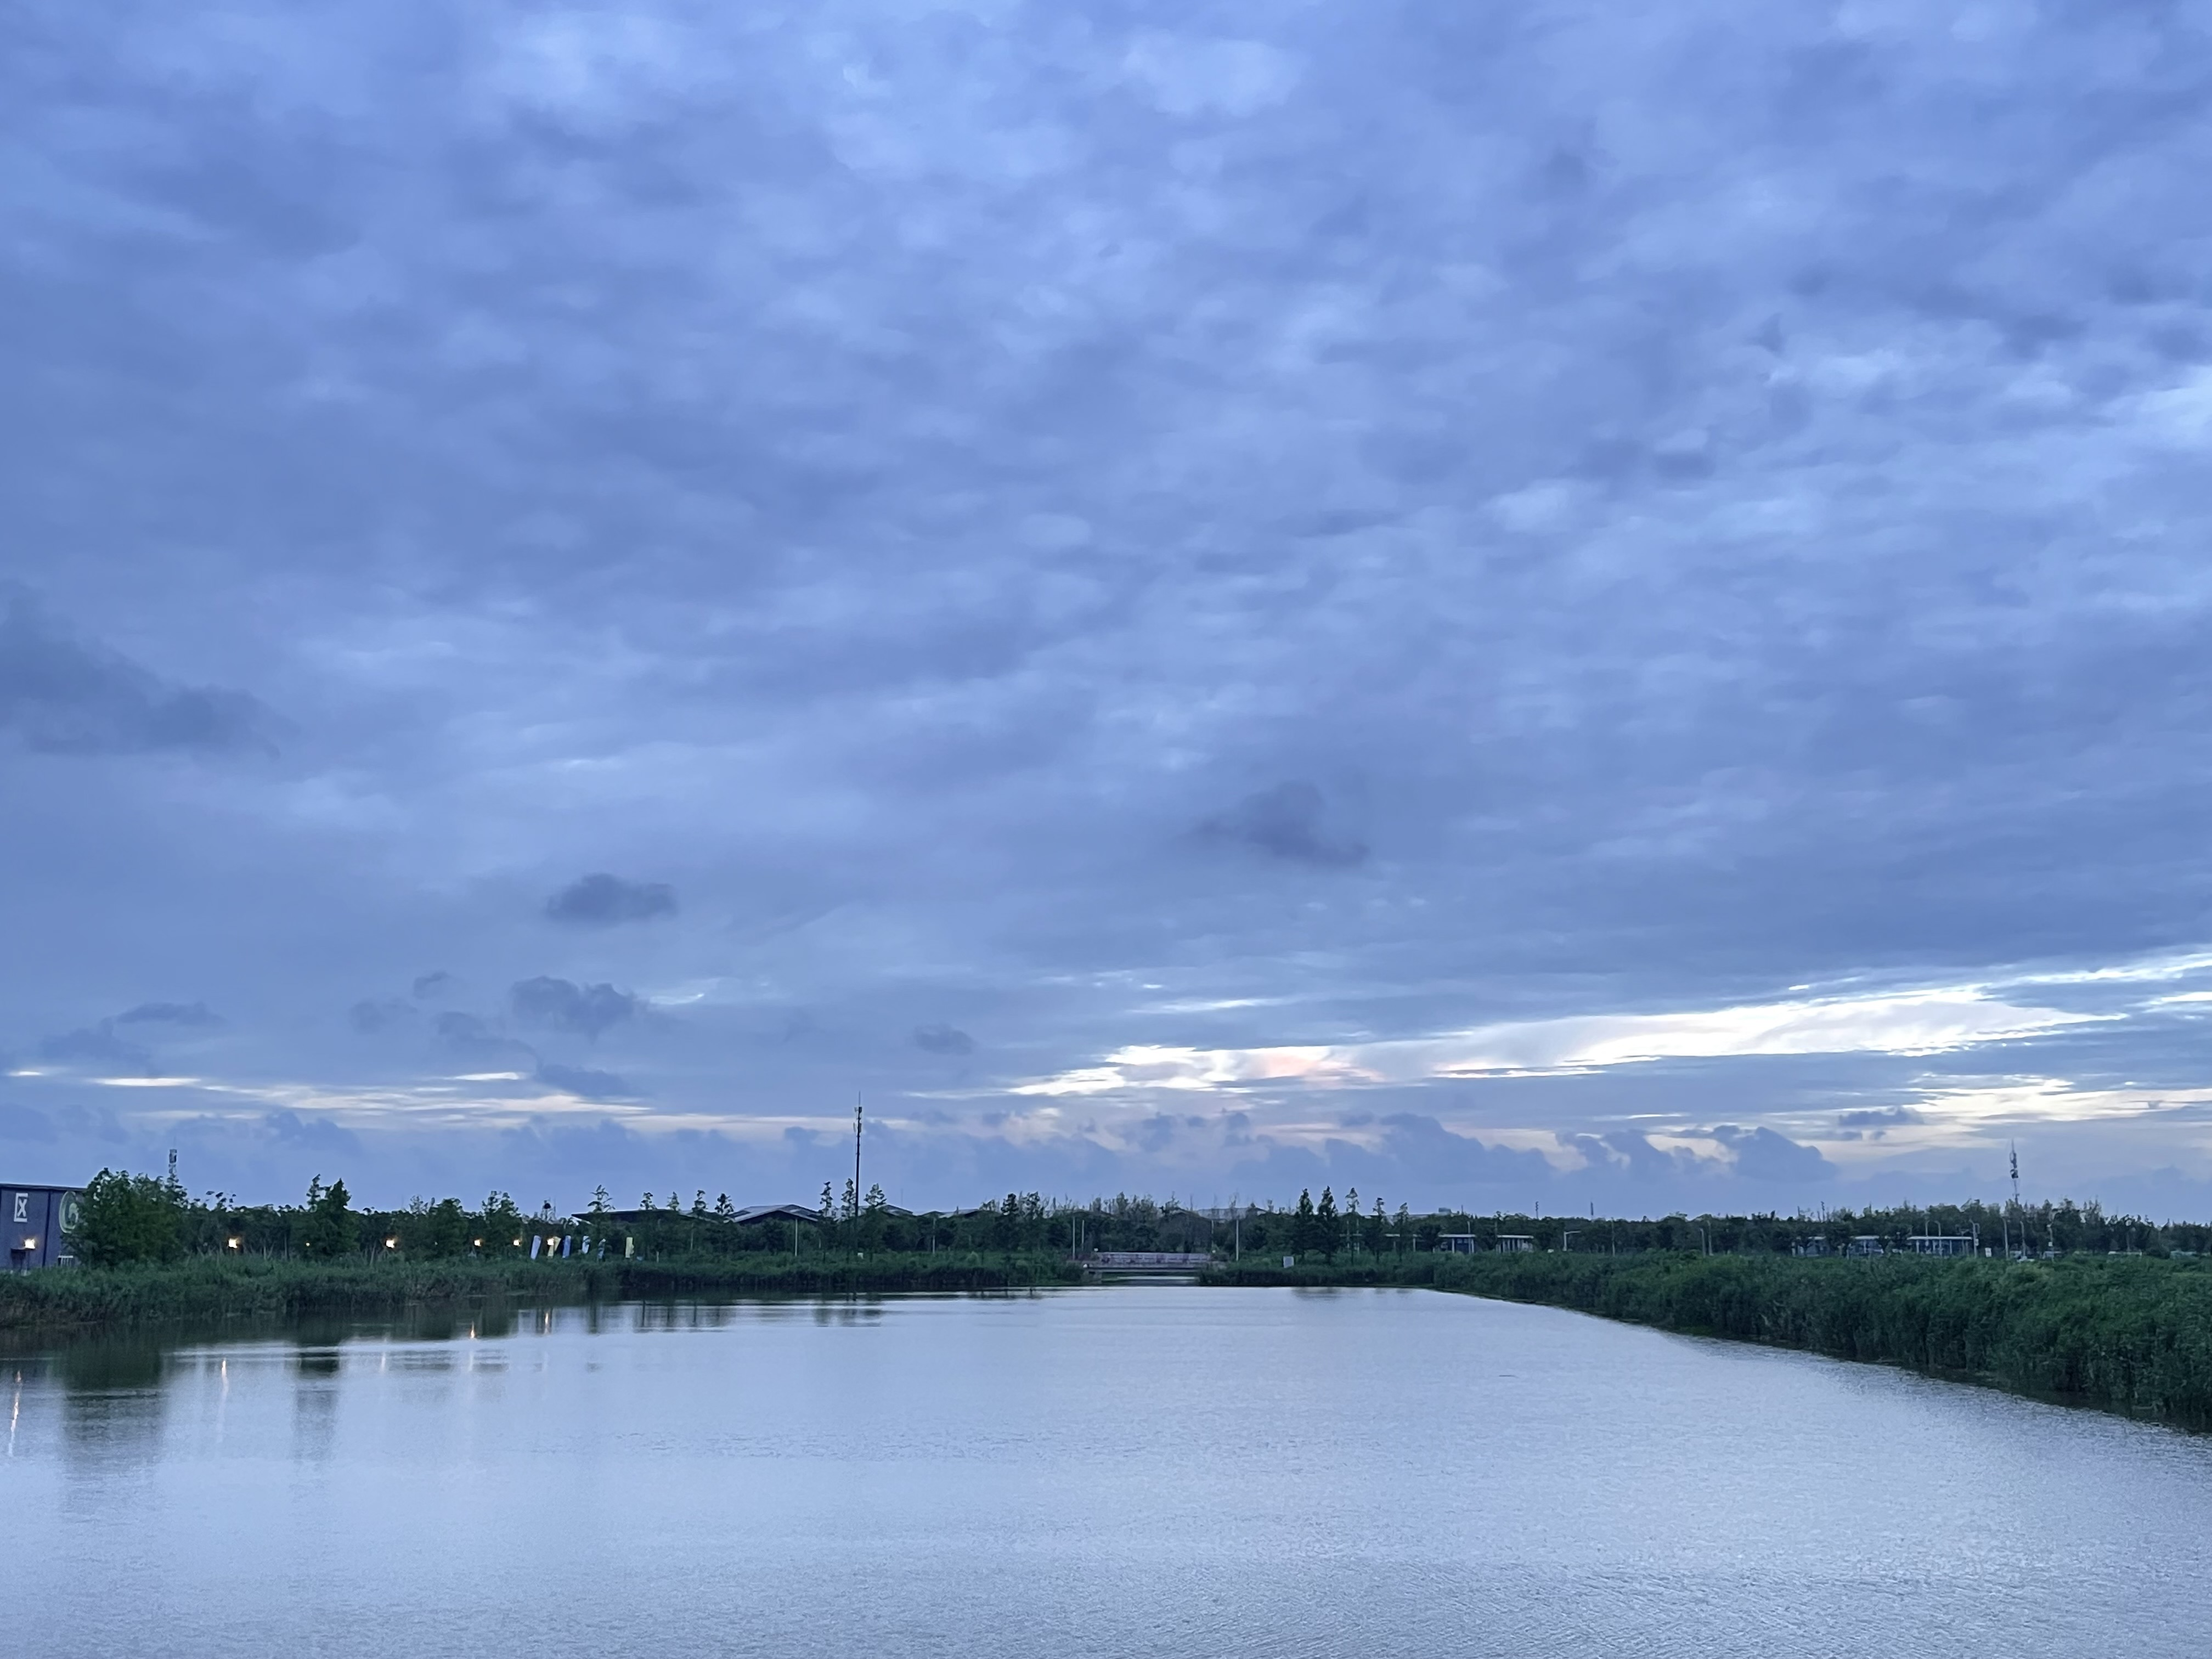Stratus: (16, 17, 2191, 957), (110, 981, 2186, 1195)
